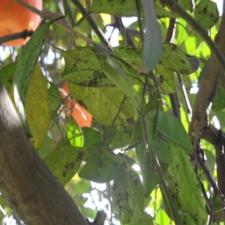Melanose: (62, 28, 210, 214)
